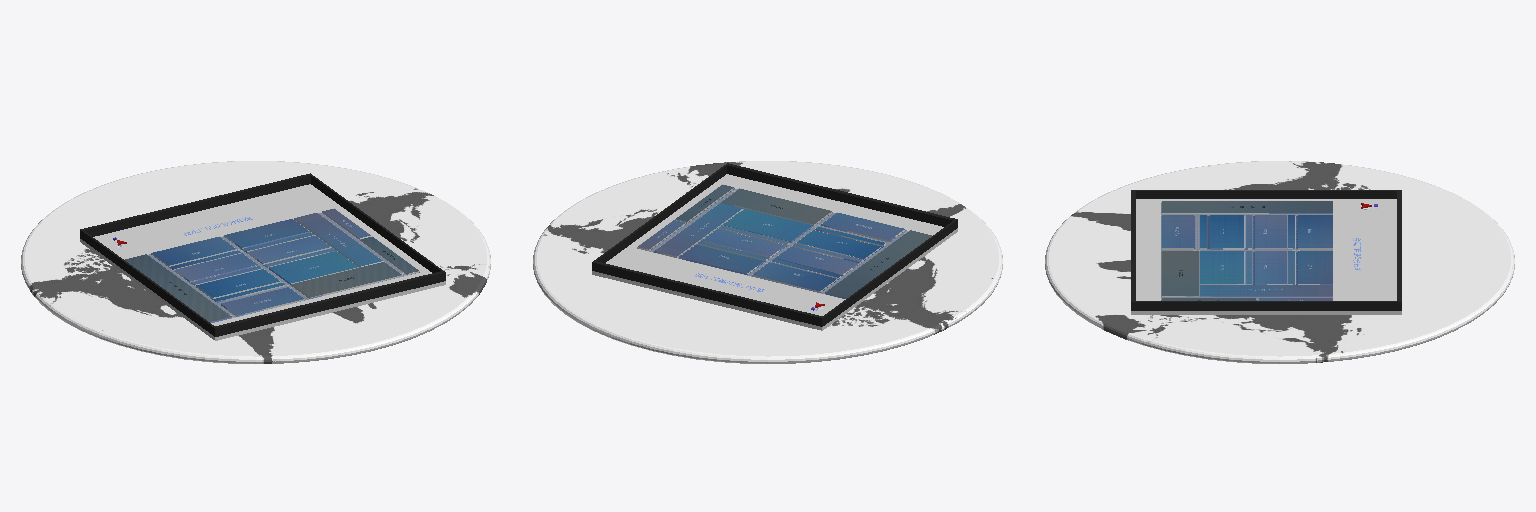
3 renders of one model, left to right at view 1: azimuth 30°, elevation 25°; view 2: azimuth 150°, elevation 25°; view 3: azimuth 270°, elevation 25°, orthographic.
Visible parts, largest first — view 1: ChamferCyl001, Box002, map, bar1, bar; view 2: ChamferCyl001, Box002, map, bar1, bar; view 3: ChamferCyl001, Box002, map, bar1, bar.
Part boxes in pixels (x1,y1,x2,y2): ChamferCyl001: (21,161,490,363); Box002: (125,208,419,322); map: (93,184,431,325); bar1: (80,173,445,336); bar: (80,239,445,340); ChamferCyl001: (533,161,1002,363); Box002: (637,184,931,298); map: (606,174,943,315); bar1: (592,163,957,326); bar: (592,228,957,330); ChamferCyl001: (1045,161,1514,363); Box002: (1162,201,1332,300); map: (1136,199,1396,300); bar1: (1131,190,1401,310); bar: (1131,311,1401,314).
Size of the model in its own units: 3746 by 178 by 3746.
Materials: 5 (2 with a texture image).